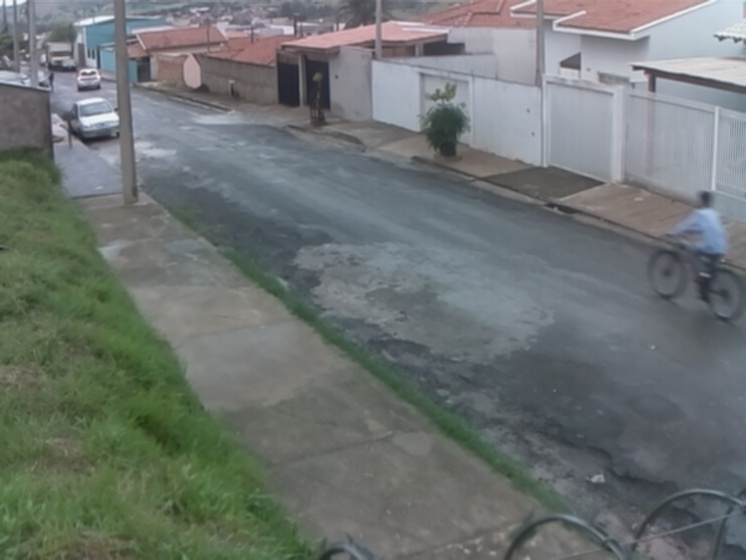person: (662, 188, 734, 290)
